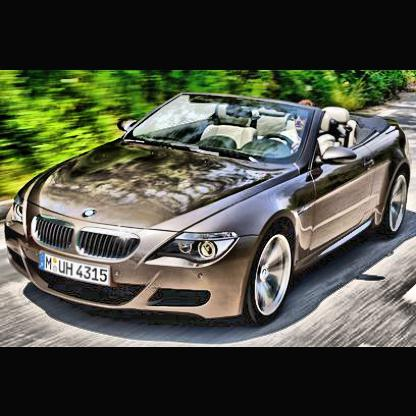BMW M6 Convertible 2010: (6, 91, 412, 325)
